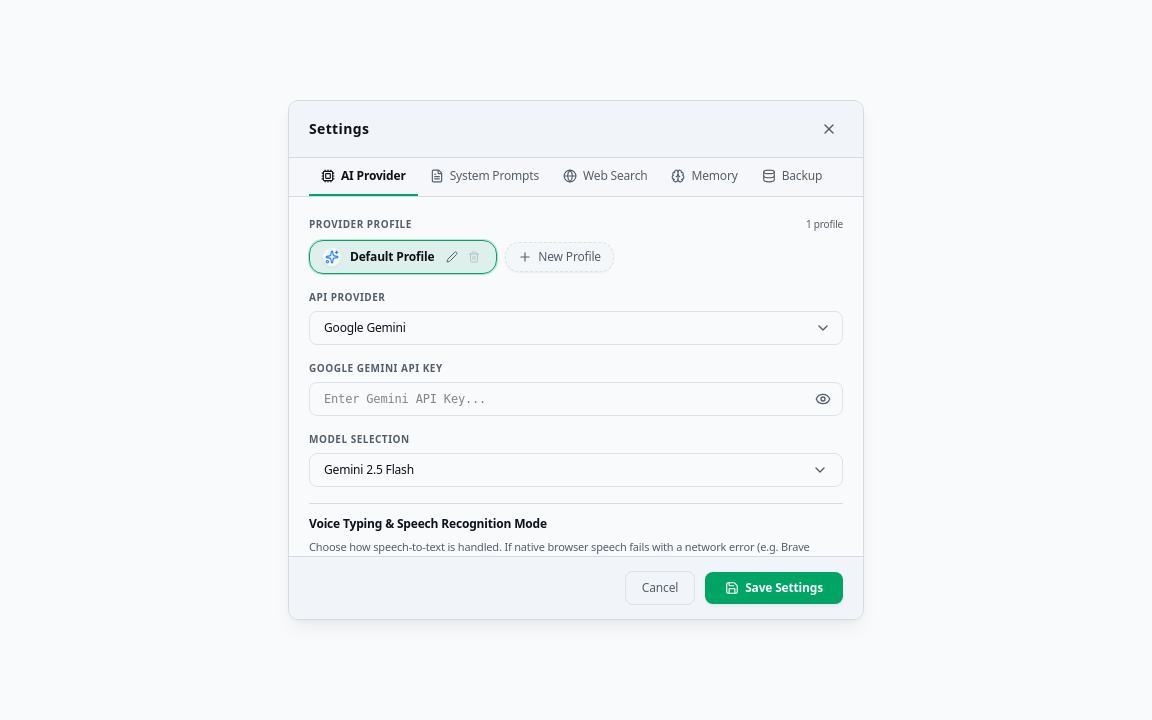
Test case: SettingsModal Component › switches provider to Ollama and tests connection
Select "Ollama (Local)" in the dropdown labelled "API Provider" at (576, 328), box [309,311,843,345]
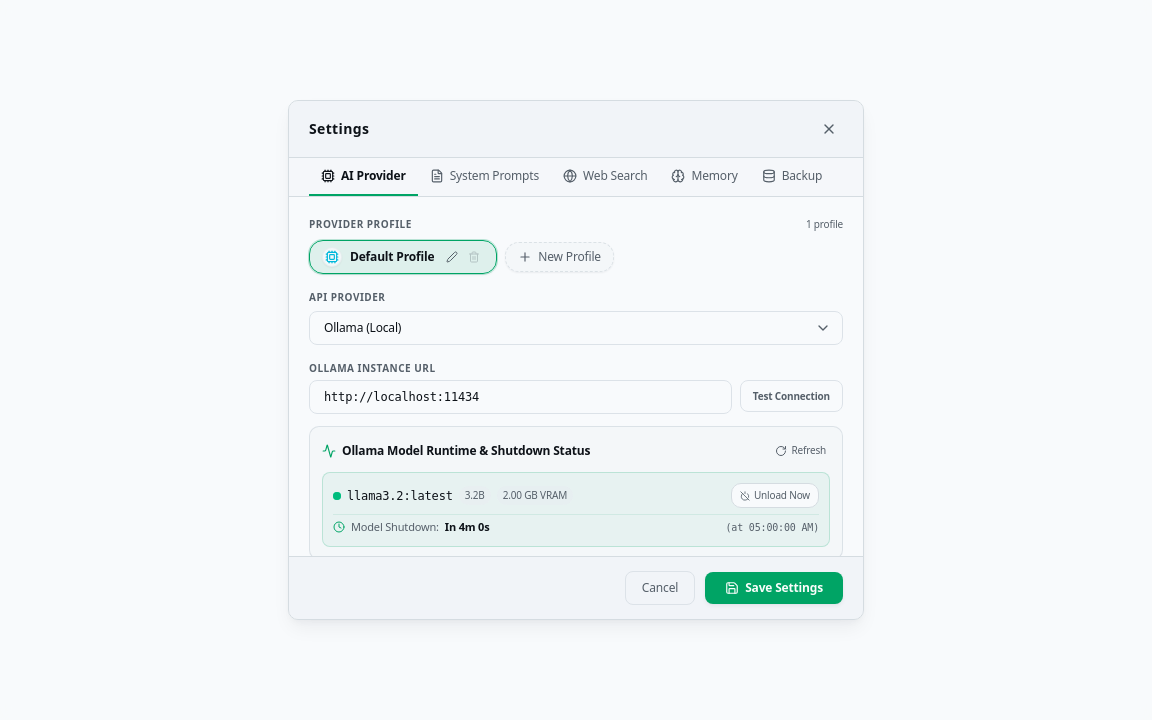
Now the text "Ollama Instance URL" is shown, box [309,361,436,375]
Now the button "Test Connection" is shown
Click the button "Test Connection" at (791, 396), box [740,380,843,412]
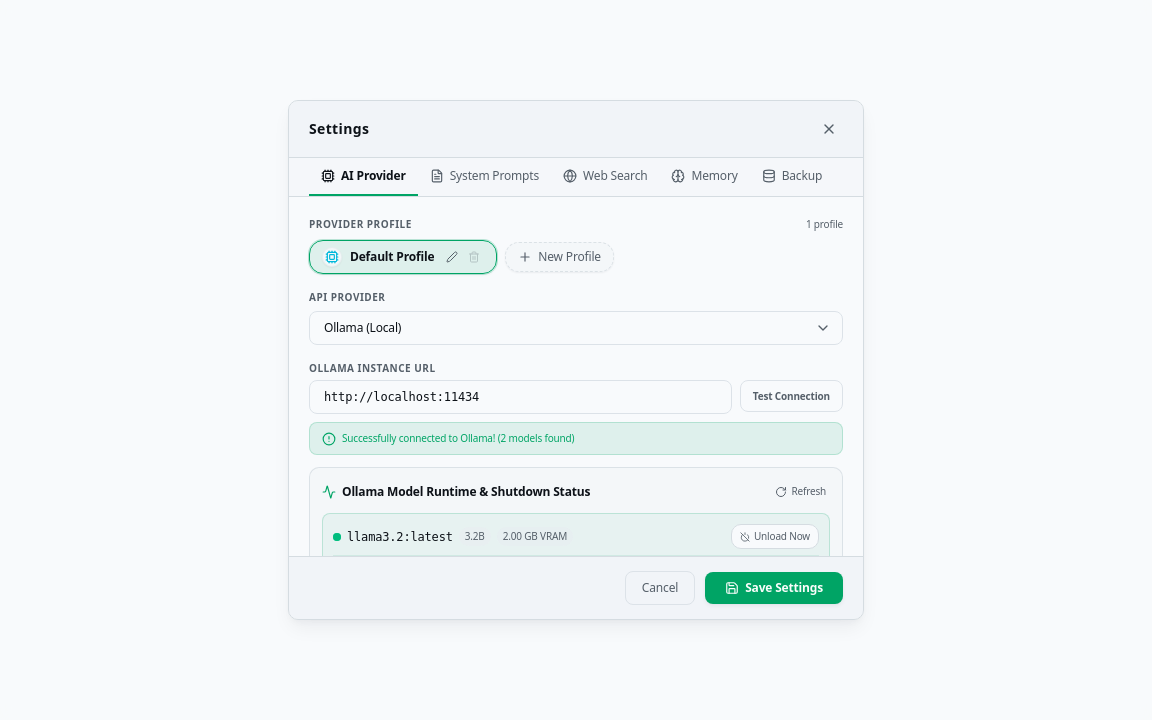
Now the text "Successfully connected to Ollama! (2 models found)" is shown, box [342,431,574,446]
